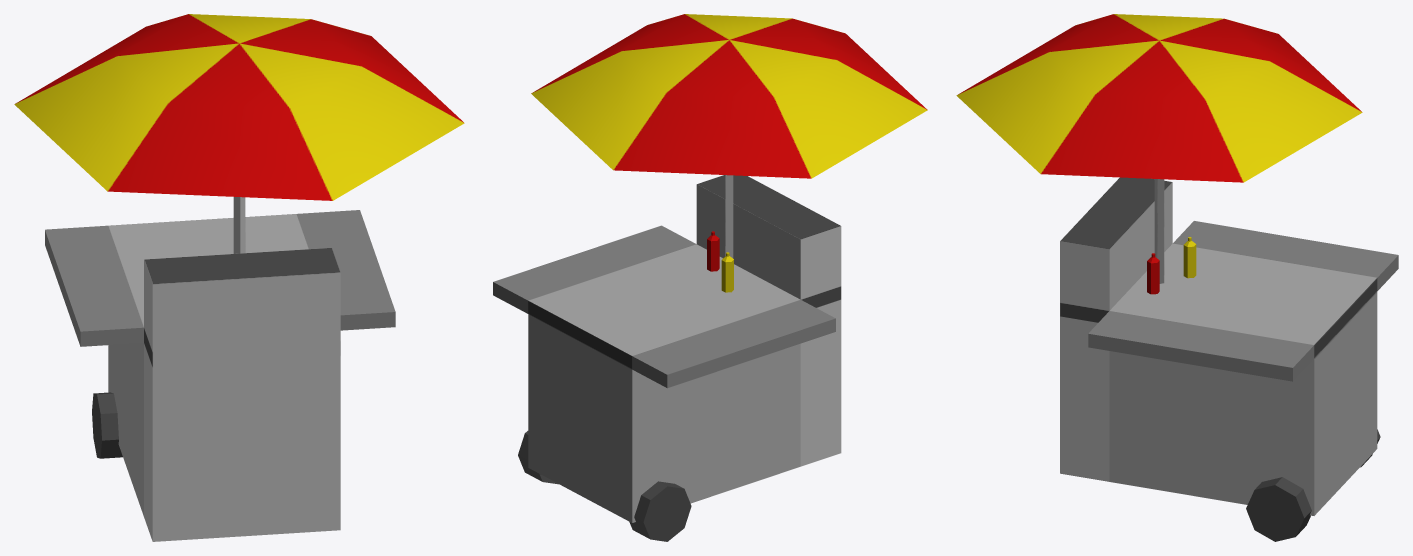
The model's file is hotdog.fbx.
3 renders of one model, left to right at view 1: azimuth 30°, elevation 25°; view 2: azimuth 150°, elevation 25°; view 3: azimuth 270°, elevation 25°, orthographic. The views are drawn at different scales.
Parts seen in each view (by area): view 1: hot_dog; view 2: hot_dog; view 3: hot_dog.
Boxes of the visible parts, x1=… form: hot_dog: x1=14, y1=14, x2=464, y2=541; hot_dog: x1=493, y1=14, x2=927, y2=541; hot_dog: x1=956, y1=14, x2=1398, y2=541.
Bounding box in the file's own units: 62.25 × 77.06 × 70.88.
1 material, 1 textured.
